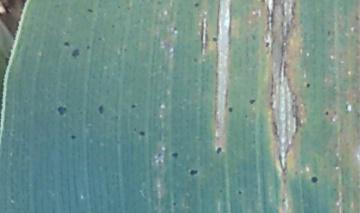tarspot: (56, 104, 68, 116), (70, 47, 81, 59), (96, 103, 104, 116), (310, 175, 319, 185), (248, 31, 257, 41), (137, 129, 146, 138), (215, 146, 223, 155), (170, 151, 179, 159), (248, 98, 257, 106), (171, 24, 179, 33), (189, 169, 199, 176), (191, 56, 199, 64), (125, 4, 133, 12), (211, 36, 219, 43), (69, 134, 77, 141), (86, 7, 94, 14), (84, 43, 92, 50), (353, 14, 360, 22), (122, 46, 129, 54), (264, 40, 270, 49), (129, 103, 138, 109), (62, 41, 71, 47), (193, 2, 200, 9), (236, 189, 244, 195), (305, 81, 311, 89), (227, 106, 233, 113), (323, 110, 329, 117), (218, 187, 224, 194), (96, 36, 103, 42), (115, 3, 121, 10), (326, 29, 331, 37), (243, 113, 249, 119), (110, 23, 116, 29), (171, 201, 178, 206), (259, 1, 265, 4)
